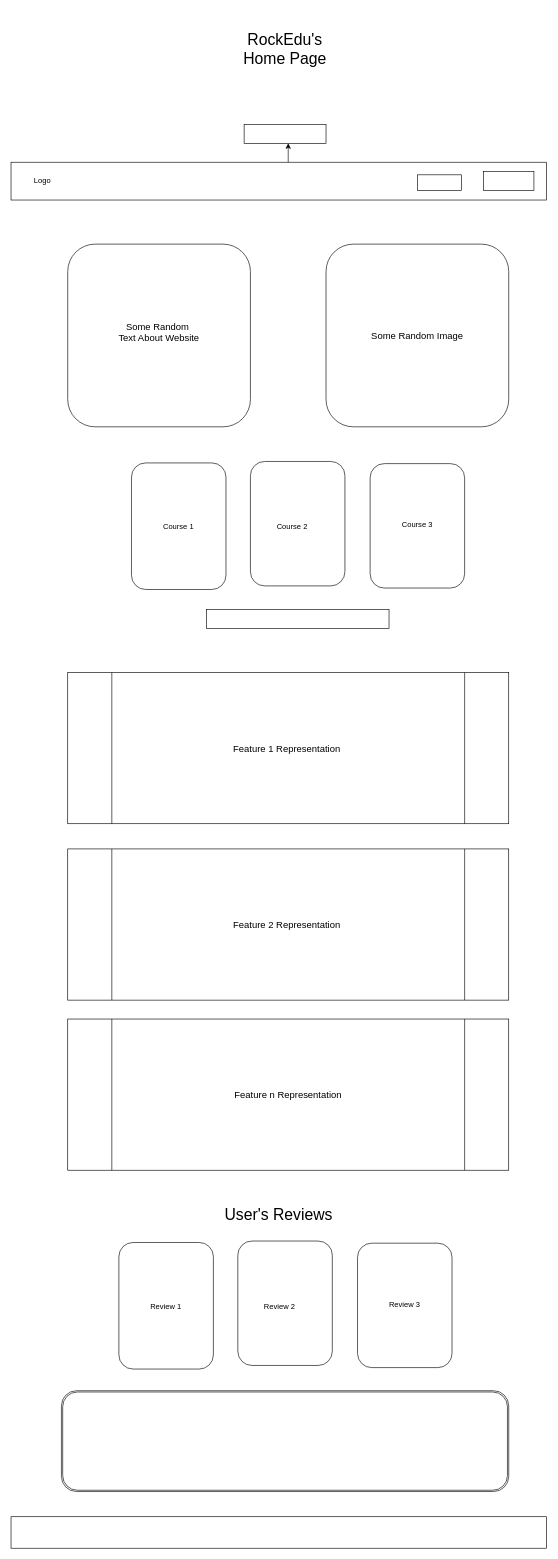
Some shapes in this 558 by 1559 pixel diagram are drawn without their labels. Here are the shapes that lost their labels. From the top down, the centre of each, then its label:
(284,133): Navigation Bar
(439,182): log in
(508,181): join for free
(297,618): VIEW ALL COURSES
(285,1441): More
(278,1532): Footer
